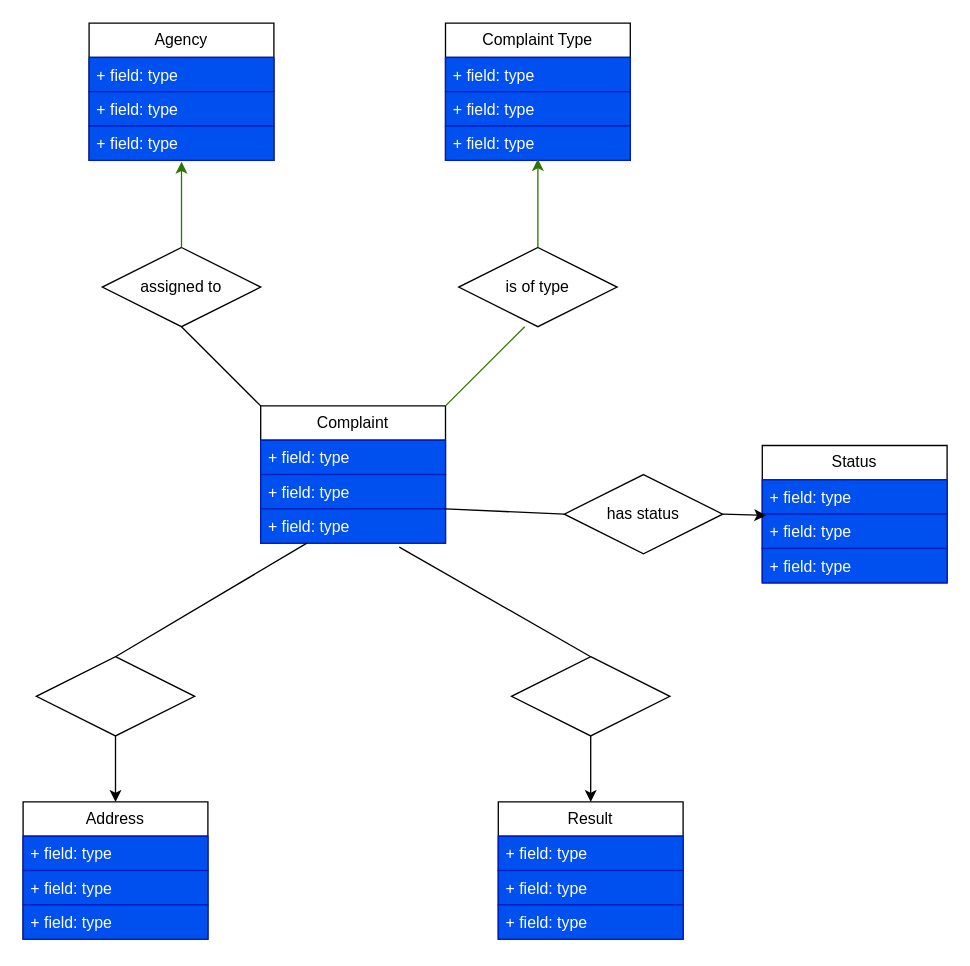
Image size: 970x966. Some labels were removed from this diagram. The centre of each missing label's shape, as x and y in pixels:
"filed for" belongs at point 115,695.
"has outcome" belongs at point 590,695.
